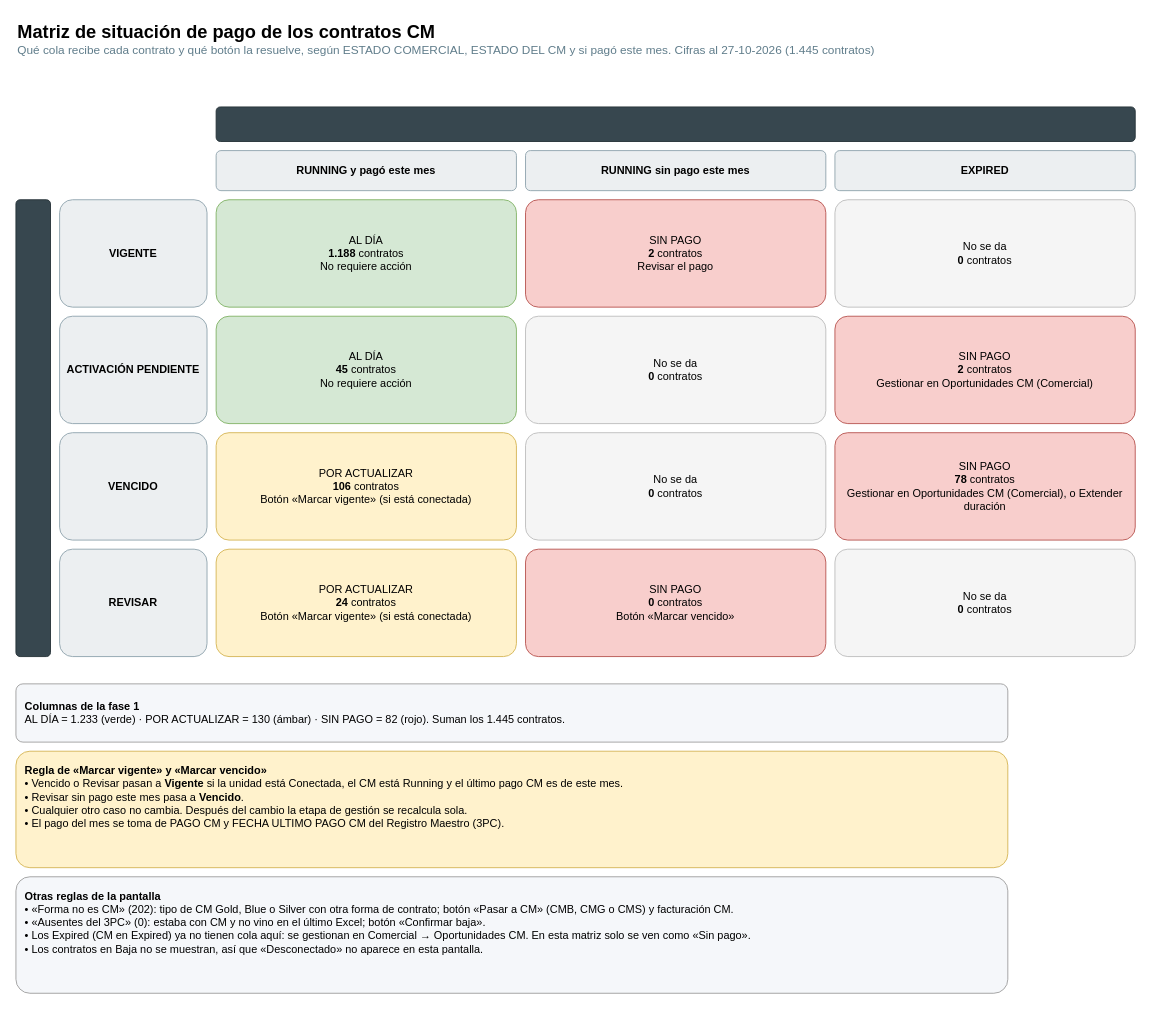
This 1151x1009 diagram has some shape labels left out. The centre of each missing label's shape, as x and y in pixels:
"ESTADO COMERCIAL" goes at (x=33, y=428).
"ESTADO DEL CM Y PAGO DEL MES" goes at (x=675, y=124).
